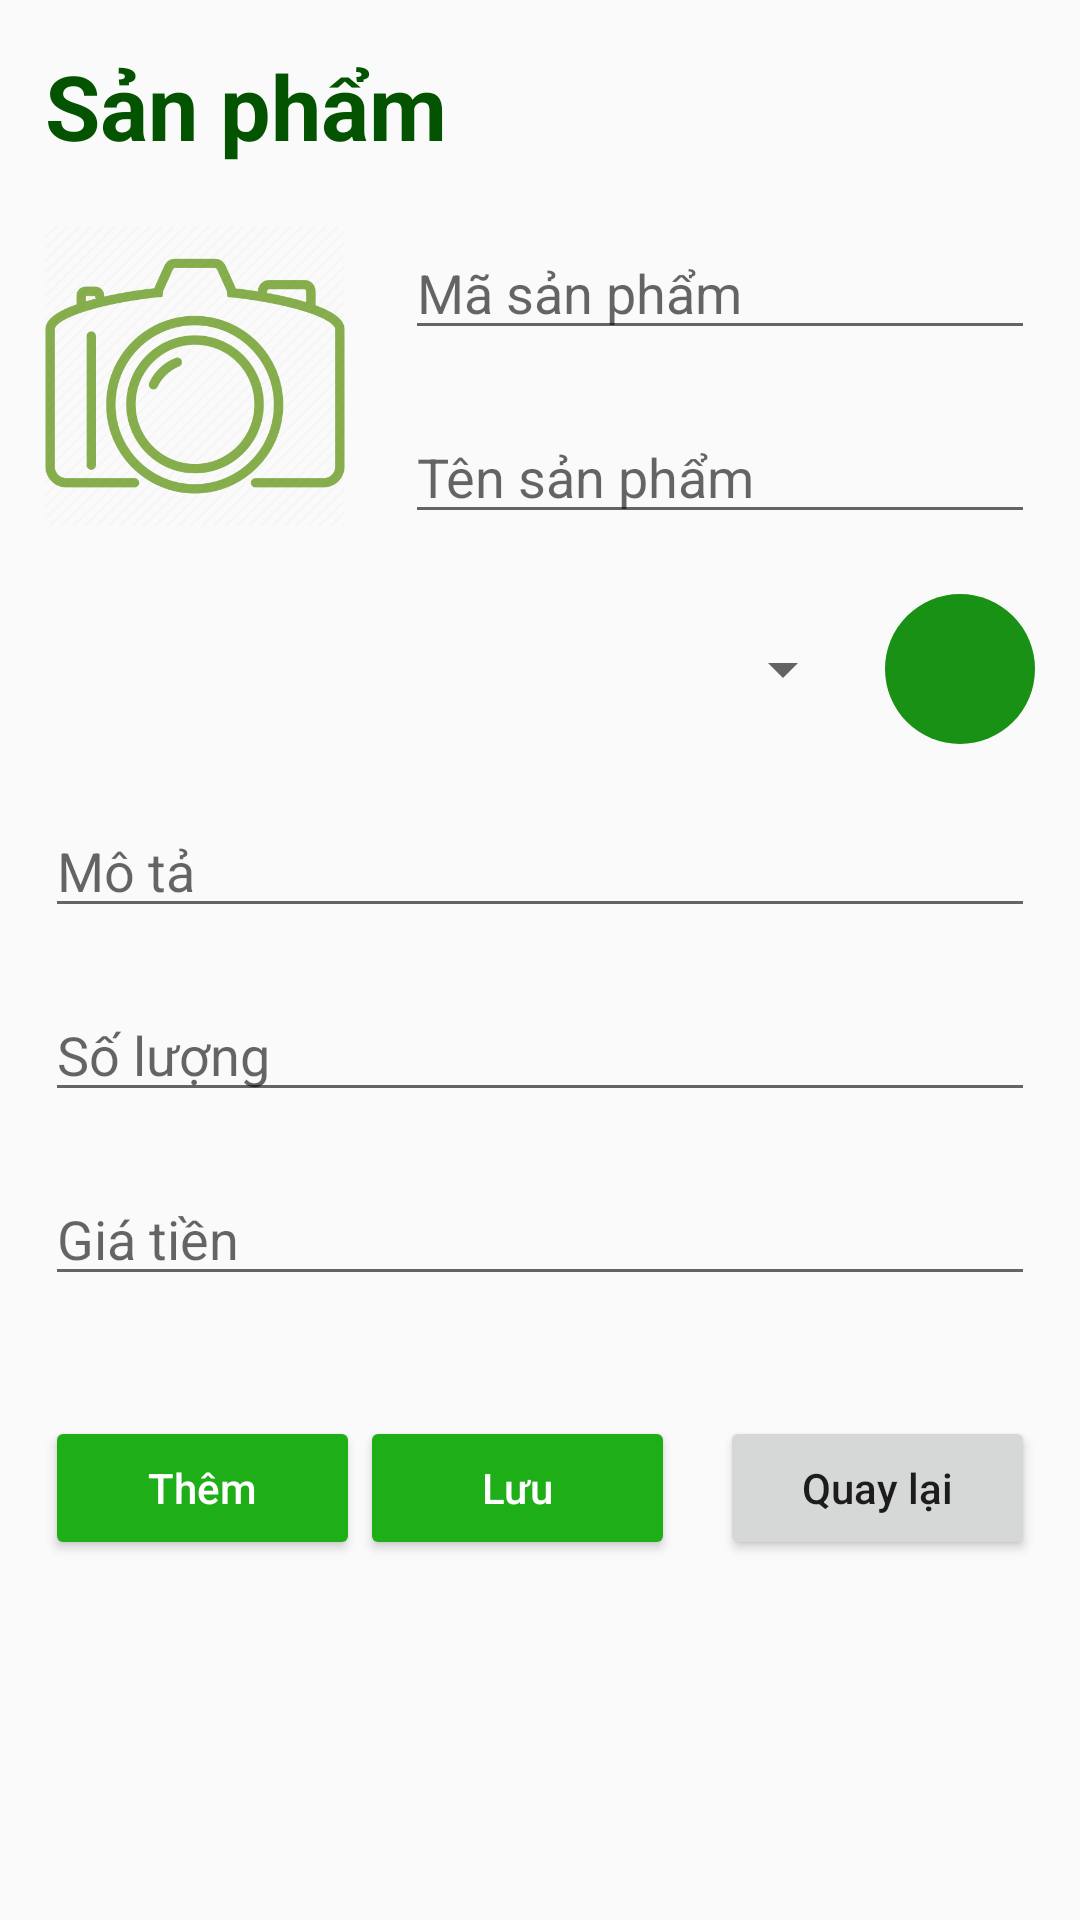

Point at icon controls on the screen. Image size 1080×1920, points as point (x, y).
camera: point (195, 376)
